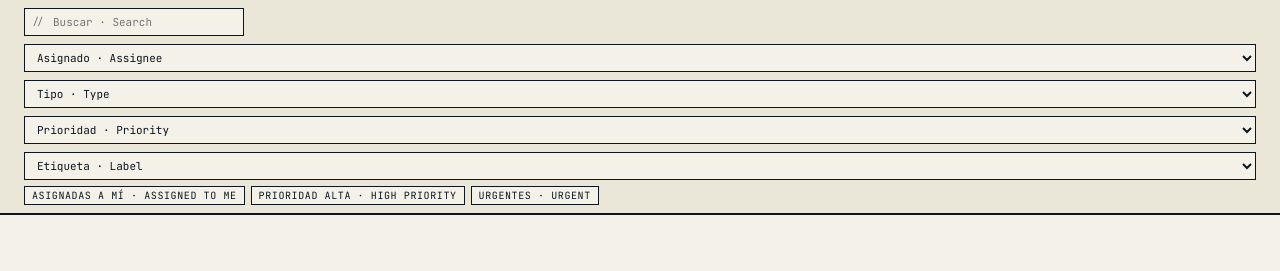
Test: FilterBar coverage — CSV export & assignee chip fallback › falls back to the raw assignee id when no matching user is loaded (line 446)
The width and height of the screenshot is (1280, 271).
Click the button "Asignadas a mí · Assigned to me".
click(134, 196)  # box [25,187,244,204]
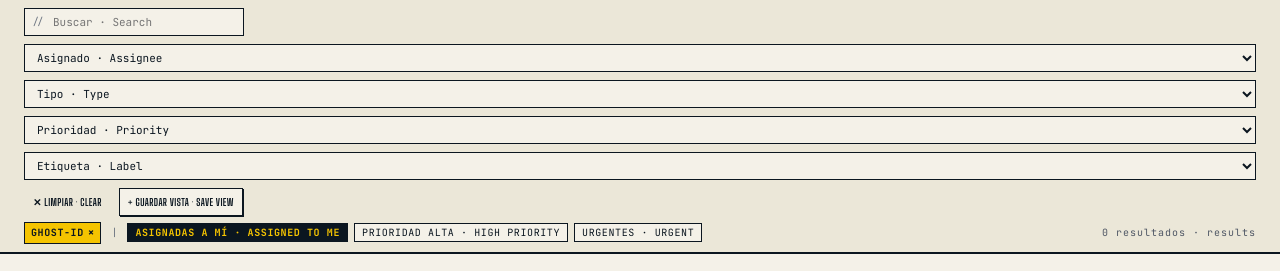
Expected: the text "ghost-id" is shown, [31,226,84,239]
